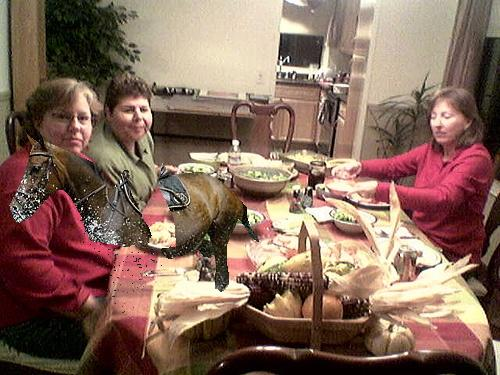tampered: (10, 130, 259, 324)
